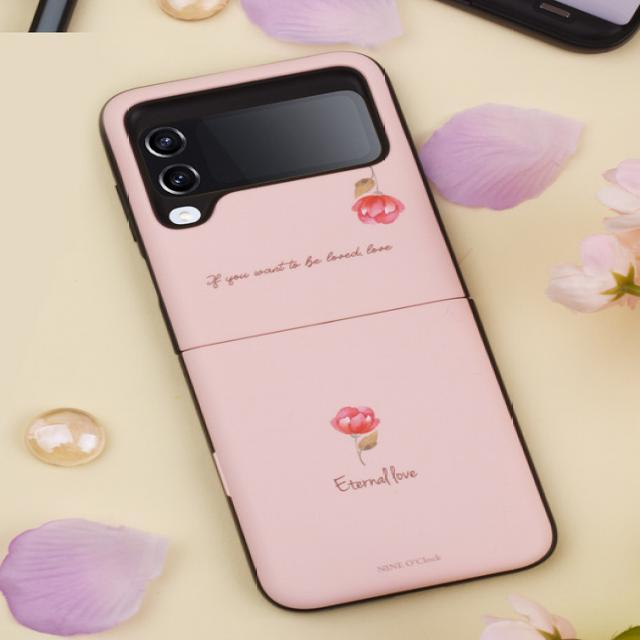phone: (98, 47, 560, 613)
